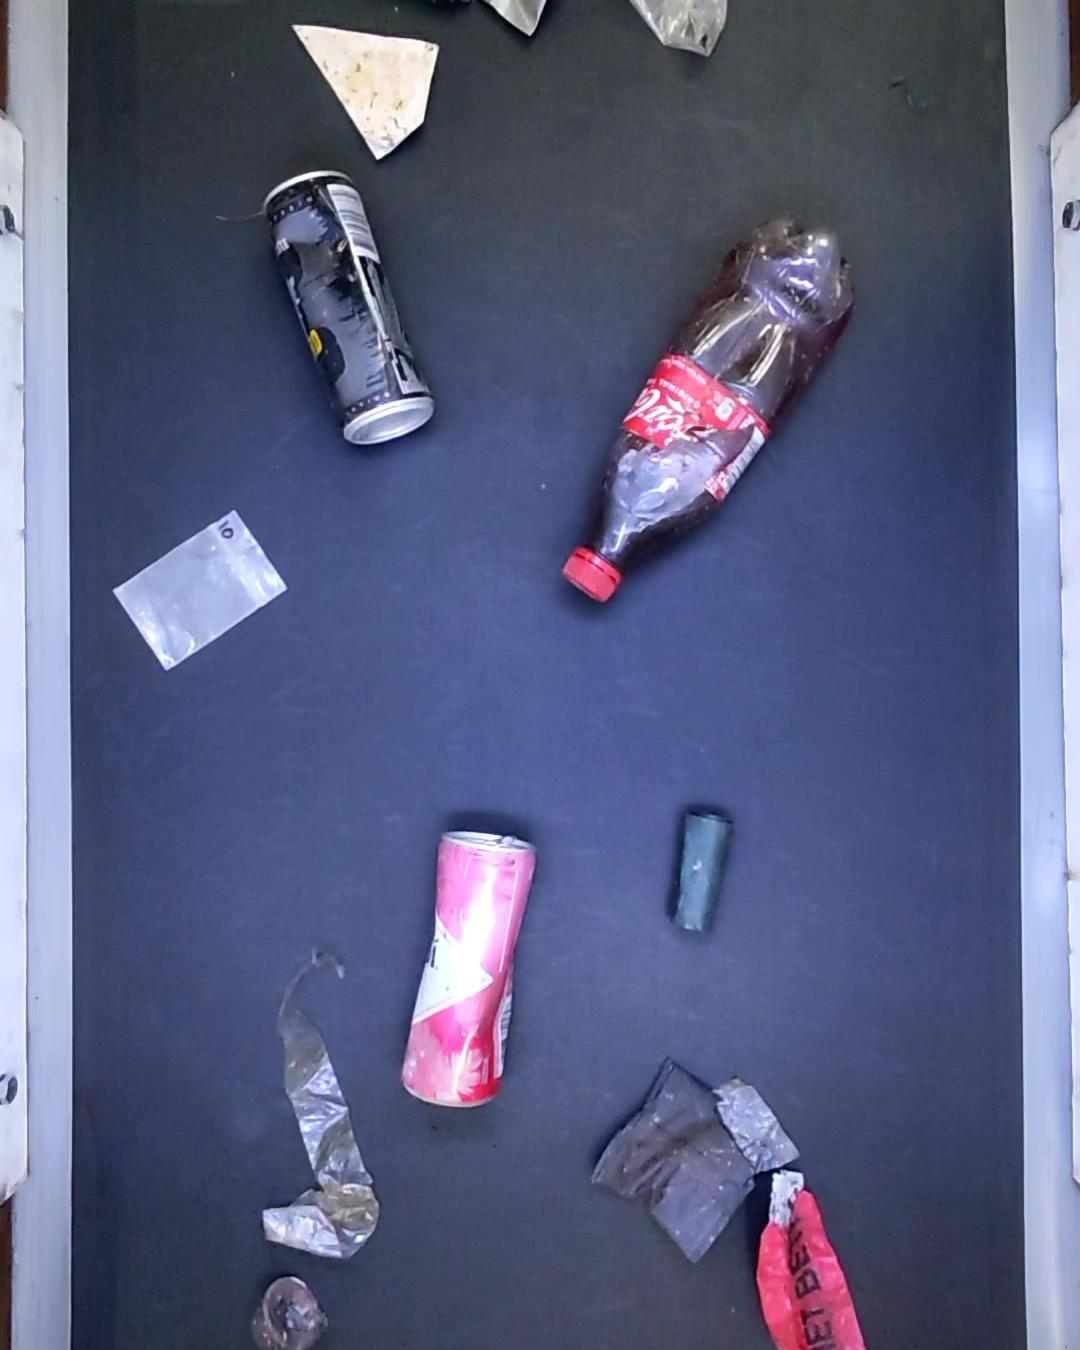Drankblikjes: (258, 171, 439, 450), (393, 812, 534, 1106)
Drankflessen - 1-2 liter: (553, 214, 861, 607)
Plastic folies of stukken daarvan 2.5- 50 cm: (257, 941, 378, 1253), (626, 0, 725, 55), (480, 0, 549, 41)
